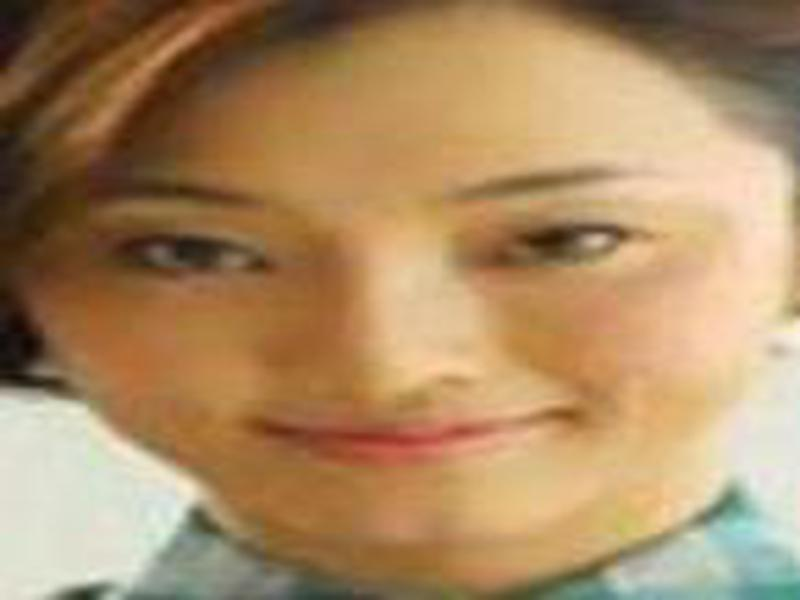without_mask: (23, 6, 799, 565)
